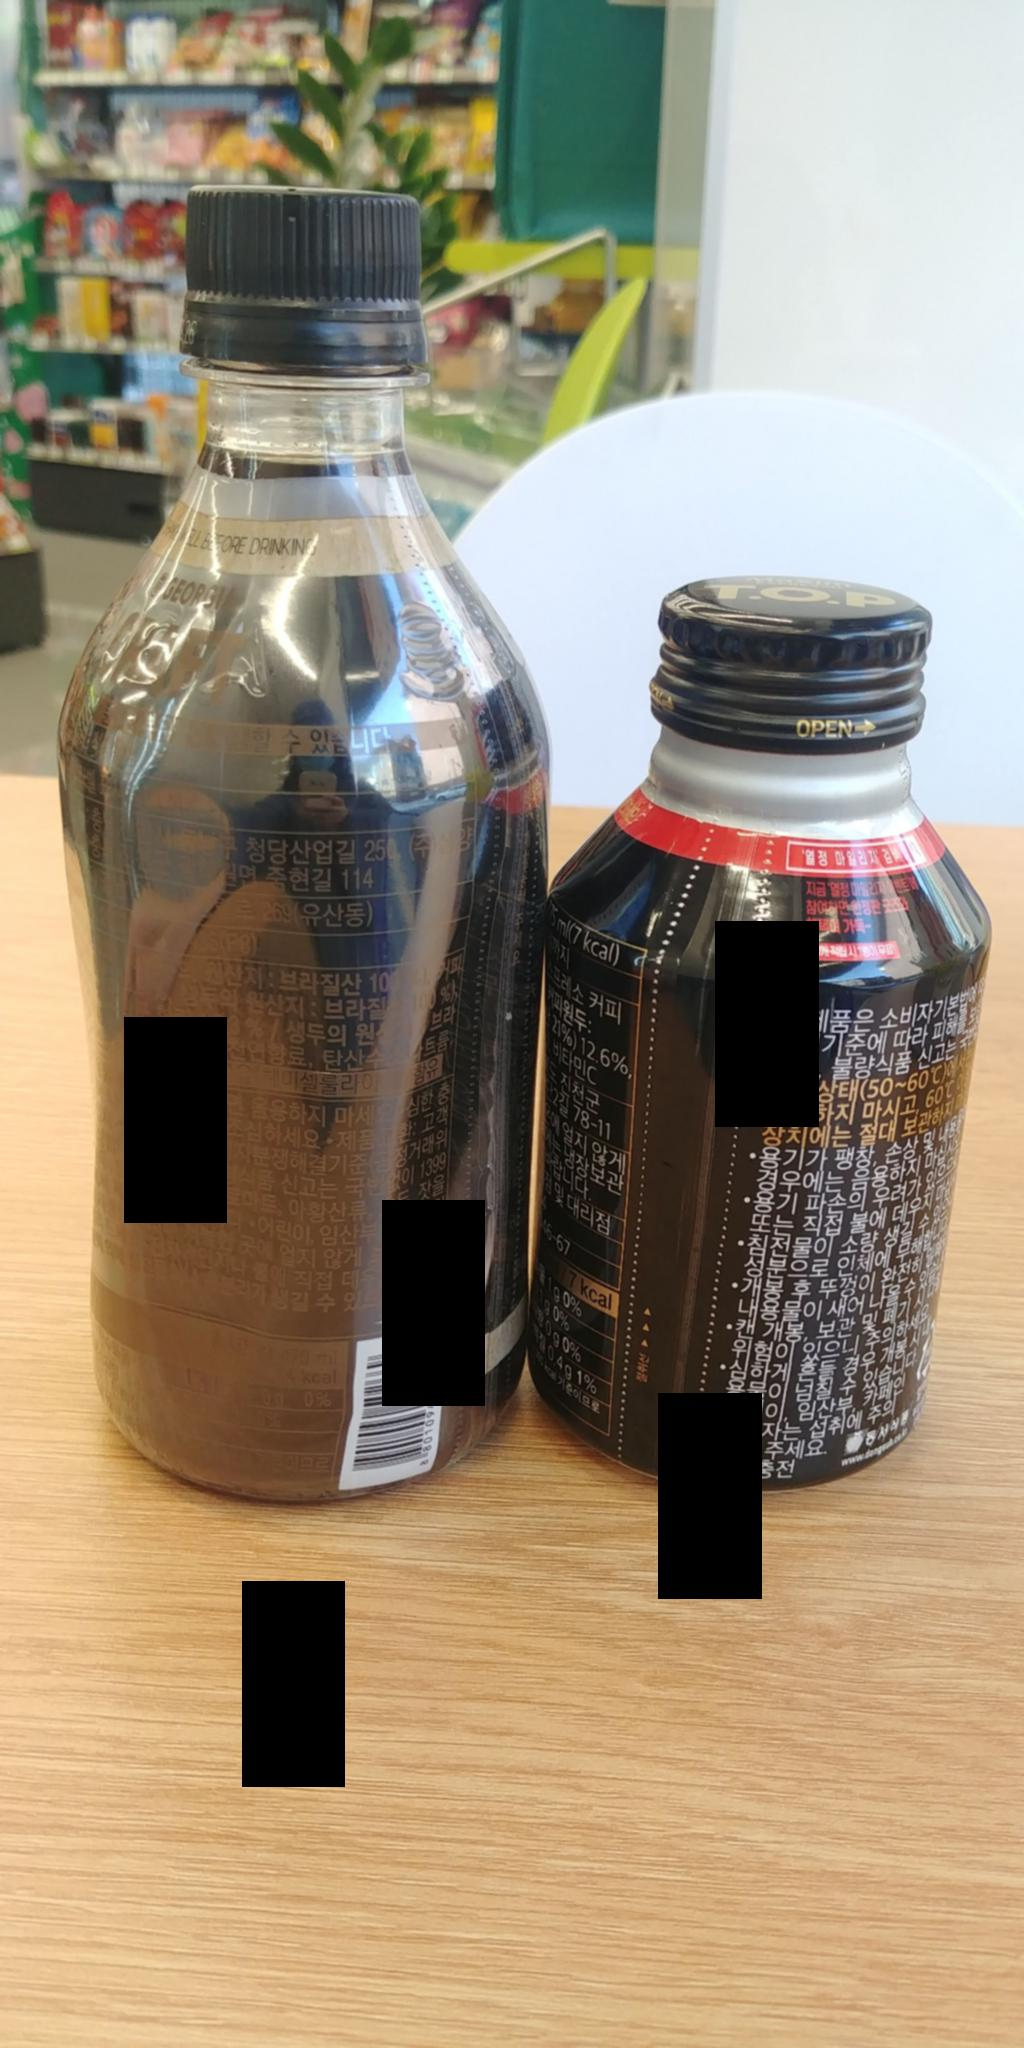TOP_black: (573, 566, 947, 1505)
georgiacraft_black: (31, 157, 571, 1455)
